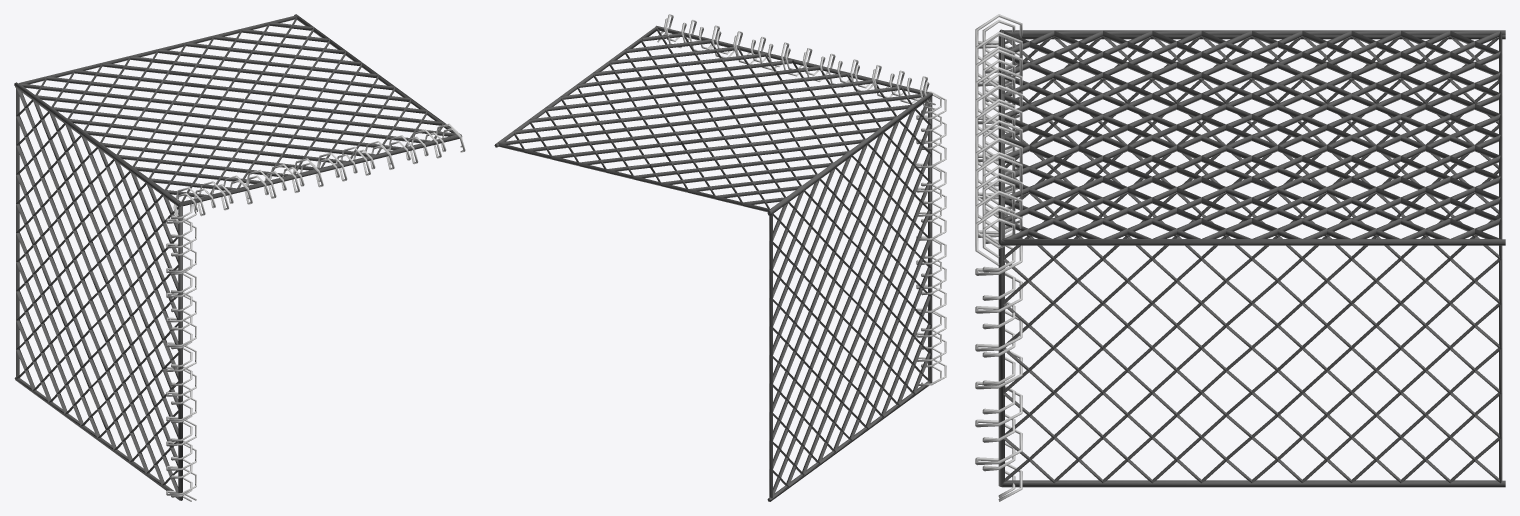
The model's file is chainlink_corner.fbx.
3 renders of one model, left to right at view 1: azimuth 30°, elevation 25°; view 2: azimuth 150°, elevation 25°; view 3: azimuth 270°, elevation 25°, orthographic. The views are drawn at different scales.
Visible parts, largest first — view 1: Plane01_None, Plane01_None.001, Spring01_None.001, Spring01_None, Spring02_None, Spring02_None.001, Cylinder02_None.001, Cylinder02_None, Cylinder01_None.001, Cylinder03_None.001; view 2: Plane01_None, Plane01_None.001, Spring01_None, Spring01_None.001, Spring02_None, Spring02_None.001, Cylinder01_None.001, Cylinder02_None, Cylinder02_None.001, Cylinder03_None.001; view 3: Plane01_None.001, Plane01_None, Spring01_None.001, Cylinder03_None.001, Spring02_None.001, Spring01_None, Cylinder01_None, Spring02_None, Cylinder02_None, Cylinder03_None, Cylinder02_None.001.
Boxes of the visible parts, x1=… form: Plane01_None: x1=16, y1=87, x2=179, y2=497; Plane01_None.001: x1=18, y1=15, x2=459, y2=202; Spring01_None.001: x1=173, y1=123, x2=465, y2=221; Spring01_None: x1=166, y1=202, x2=196, y2=500; Spring02_None: x1=171, y1=203, x2=192, y2=501; Spring02_None.001: x1=175, y1=128, x2=462, y2=216; Cylinder02_None.001: x1=179, y1=134, x2=462, y2=206; Cylinder02_None: x1=179, y1=205, x2=182, y2=500; Cylinder01_None.001: x1=14, y1=82, x2=180, y2=205; Cylinder03_None.001: x1=294, y1=14, x2=460, y2=134; Plane01_None: x1=769, y1=97, x2=931, y2=498; Plane01_None.001: x1=497, y1=26, x2=928, y2=212; Spring01_None: x1=916, y1=91, x2=946, y2=385; Spring01_None.001: x1=657, y1=14, x2=935, y2=109; Spring02_None: x1=921, y1=93, x2=941, y2=383; Spring02_None.001: x1=658, y1=18, x2=935, y2=105; Cylinder01_None.001: x1=768, y1=93, x2=932, y2=214; Cylinder02_None: x1=928, y1=96, x2=932, y2=382; Cylinder02_None.001: x1=655, y1=25, x2=932, y2=95; Cylinder03_None.001: x1=494, y1=27, x2=657, y2=147; Plane01_None.001: x1=1002, y1=30, x2=1502, y2=239; Plane01_None: x1=1003, y1=37, x2=1502, y2=483; Spring01_None.001: x1=975, y1=14, x2=1022, y2=266; Cylinder03_None.001: x1=1002, y1=239, x2=1505, y2=245; Spring02_None.001: x1=982, y1=19, x2=1015, y2=258; Spring01_None: x1=975, y1=41, x2=1022, y2=501; Cylinder01_None: x1=1002, y1=480, x2=1505, y2=487; Spring02_None: x1=982, y1=40, x2=1015, y2=497; Cylinder02_None: x1=998, y1=245, x2=1004, y2=486; Cylinder03_None: x1=1005, y1=35, x2=1505, y2=39; Cylinder02_None.001: x1=998, y1=29, x2=1004, y2=245.
Size of the model in its own units: 61.67 by 62.64 by 62.33.
Materials: 1 (1 with a texture image).
